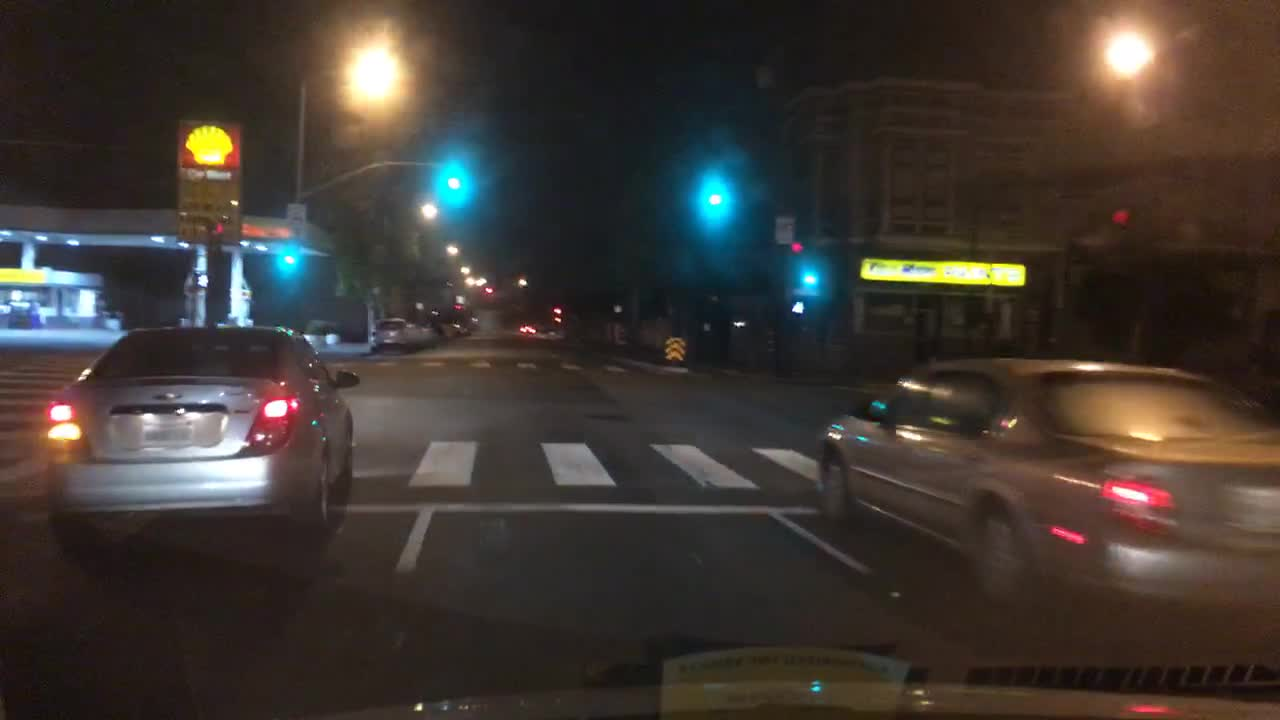car: (811, 356, 1279, 645), (41, 321, 361, 555), (369, 317, 410, 350), (304, 323, 340, 351), (6, 301, 40, 329), (433, 318, 473, 339), (408, 322, 438, 348), (87, 313, 120, 329), (518, 320, 536, 335), (463, 310, 477, 327)
traffic light: (1111, 204, 1132, 235), (281, 243, 296, 275), (801, 267, 817, 286), (790, 296, 805, 315), (792, 239, 804, 257), (484, 281, 494, 298)
traffic sign: (287, 203, 306, 238), (664, 335, 685, 364), (774, 215, 793, 246)
